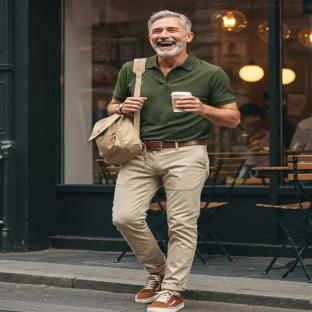Human: (107, 10, 240, 312)
